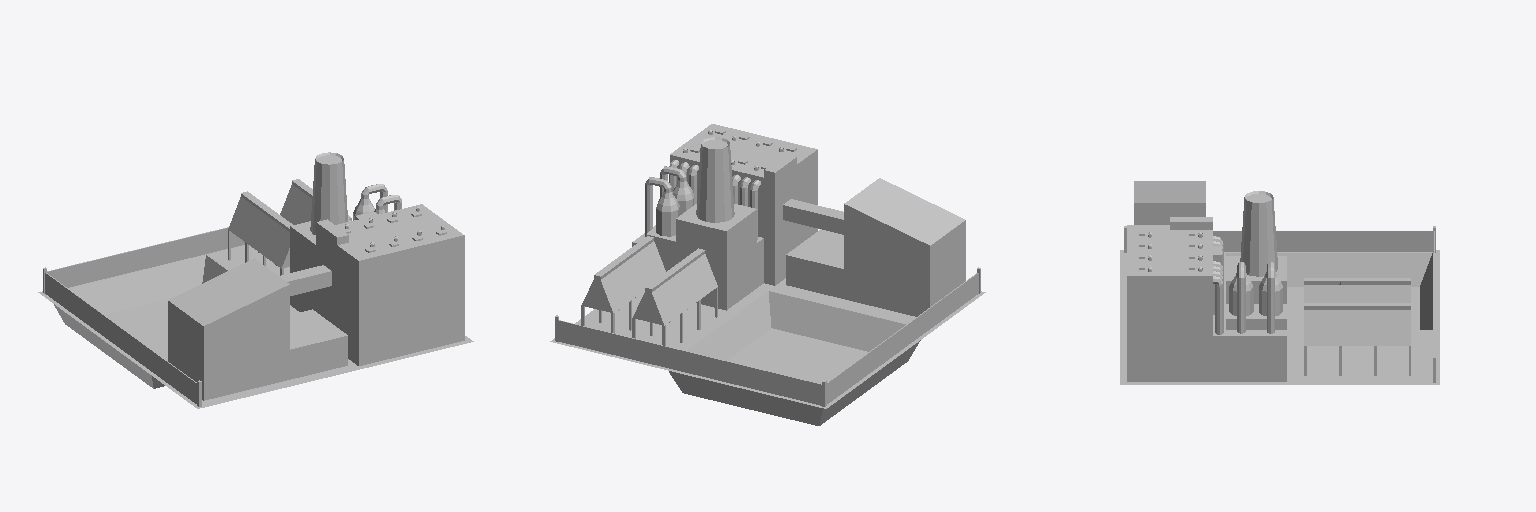
Rendered from Garbage heap_factory.obj.
The picture shows the model from 3 angles: view 1: azimuth 30°, elevation 25°; view 2: azimuth 150°, elevation 25°; view 3: azimuth 270°, elevation 25°; orthographic projection.
Visible parts, largest first — view 1: Factory_Plane.001; view 2: Factory_Plane.001; view 3: Factory_Plane.001.
Boxes of the visible parts, <box> form: Factory_Plane.001: <box>38,152,473,408</box>; Factory_Plane.001: <box>550,124,985,425</box>; Factory_Plane.001: <box>1120,181,1439,384</box>.
Bounding box in the file's own units: 3 × 1.86 × 3.